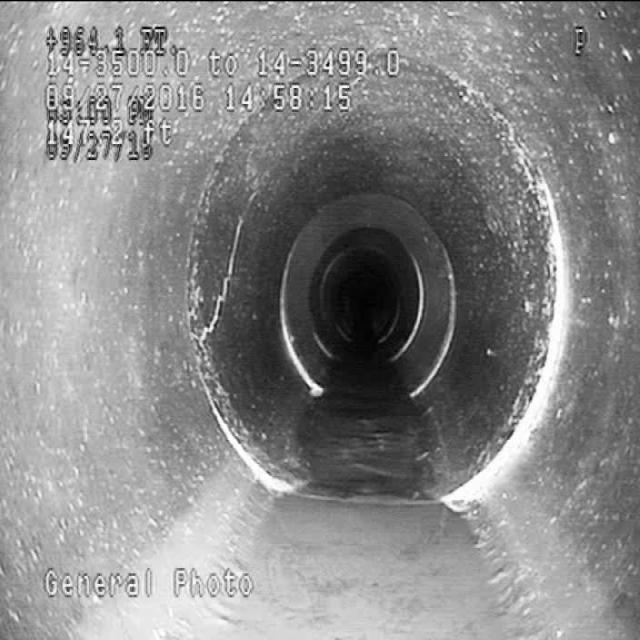Crack: (190, 175, 256, 348)
